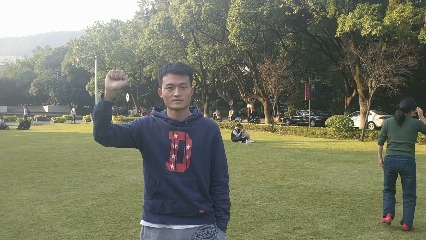fist: (103, 66, 131, 92)
